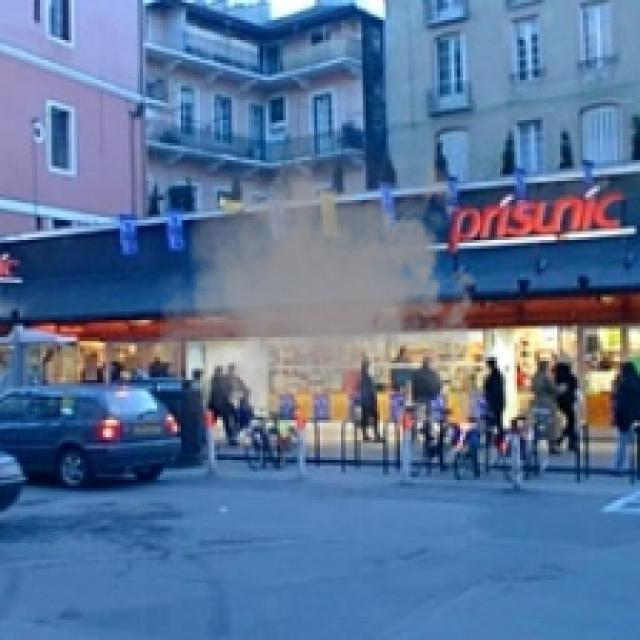Smoke: (152, 112, 497, 477)
